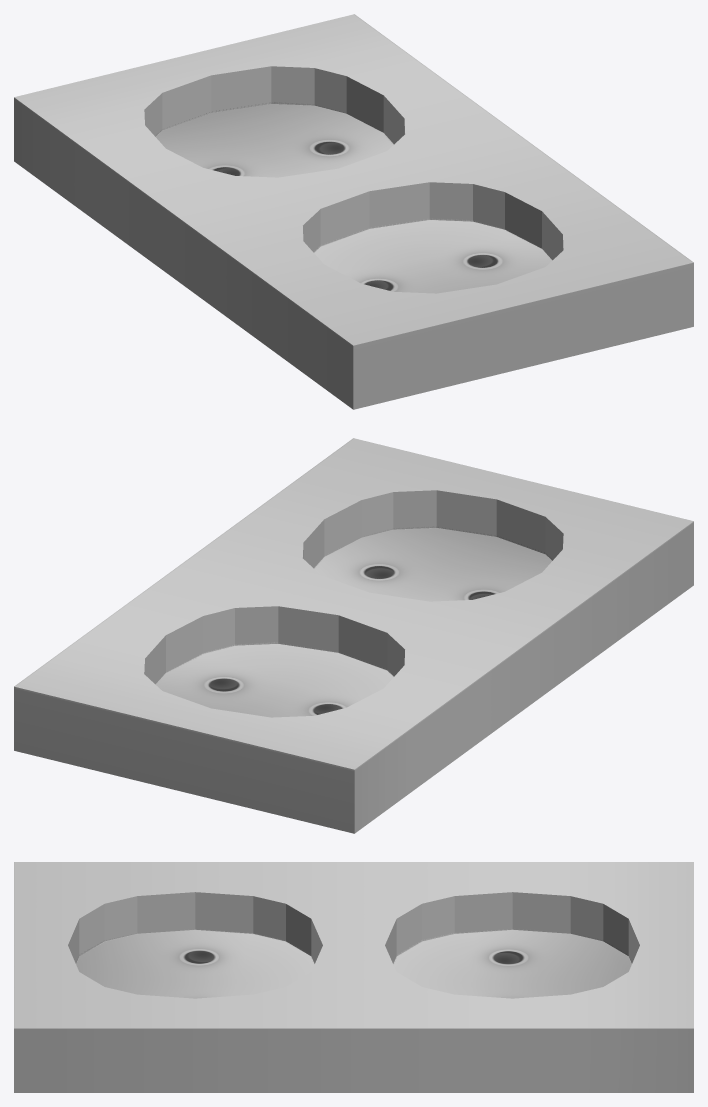
File: Concent0.FBX
3 renders of one model, top to bottom at view 1: azimuth 30°, elevation 25°; view 2: azimuth 150°, elevation 25°; view 3: azimuth 270°, elevation 25°, orthographic.
Parts seen in each view (by area): view 1: concent0; view 2: concent0; view 3: concent0.
Boxes of the visible parts, x1,y1,x2,y2 form: concent0: (14,14,693,409); concent0: (14,438,693,833); concent0: (14,862,693,1092).
Bounding box in the file's own units: 3.41 × 0.6135 × 5.88.
Materials: 1 (1 with a texture image).
